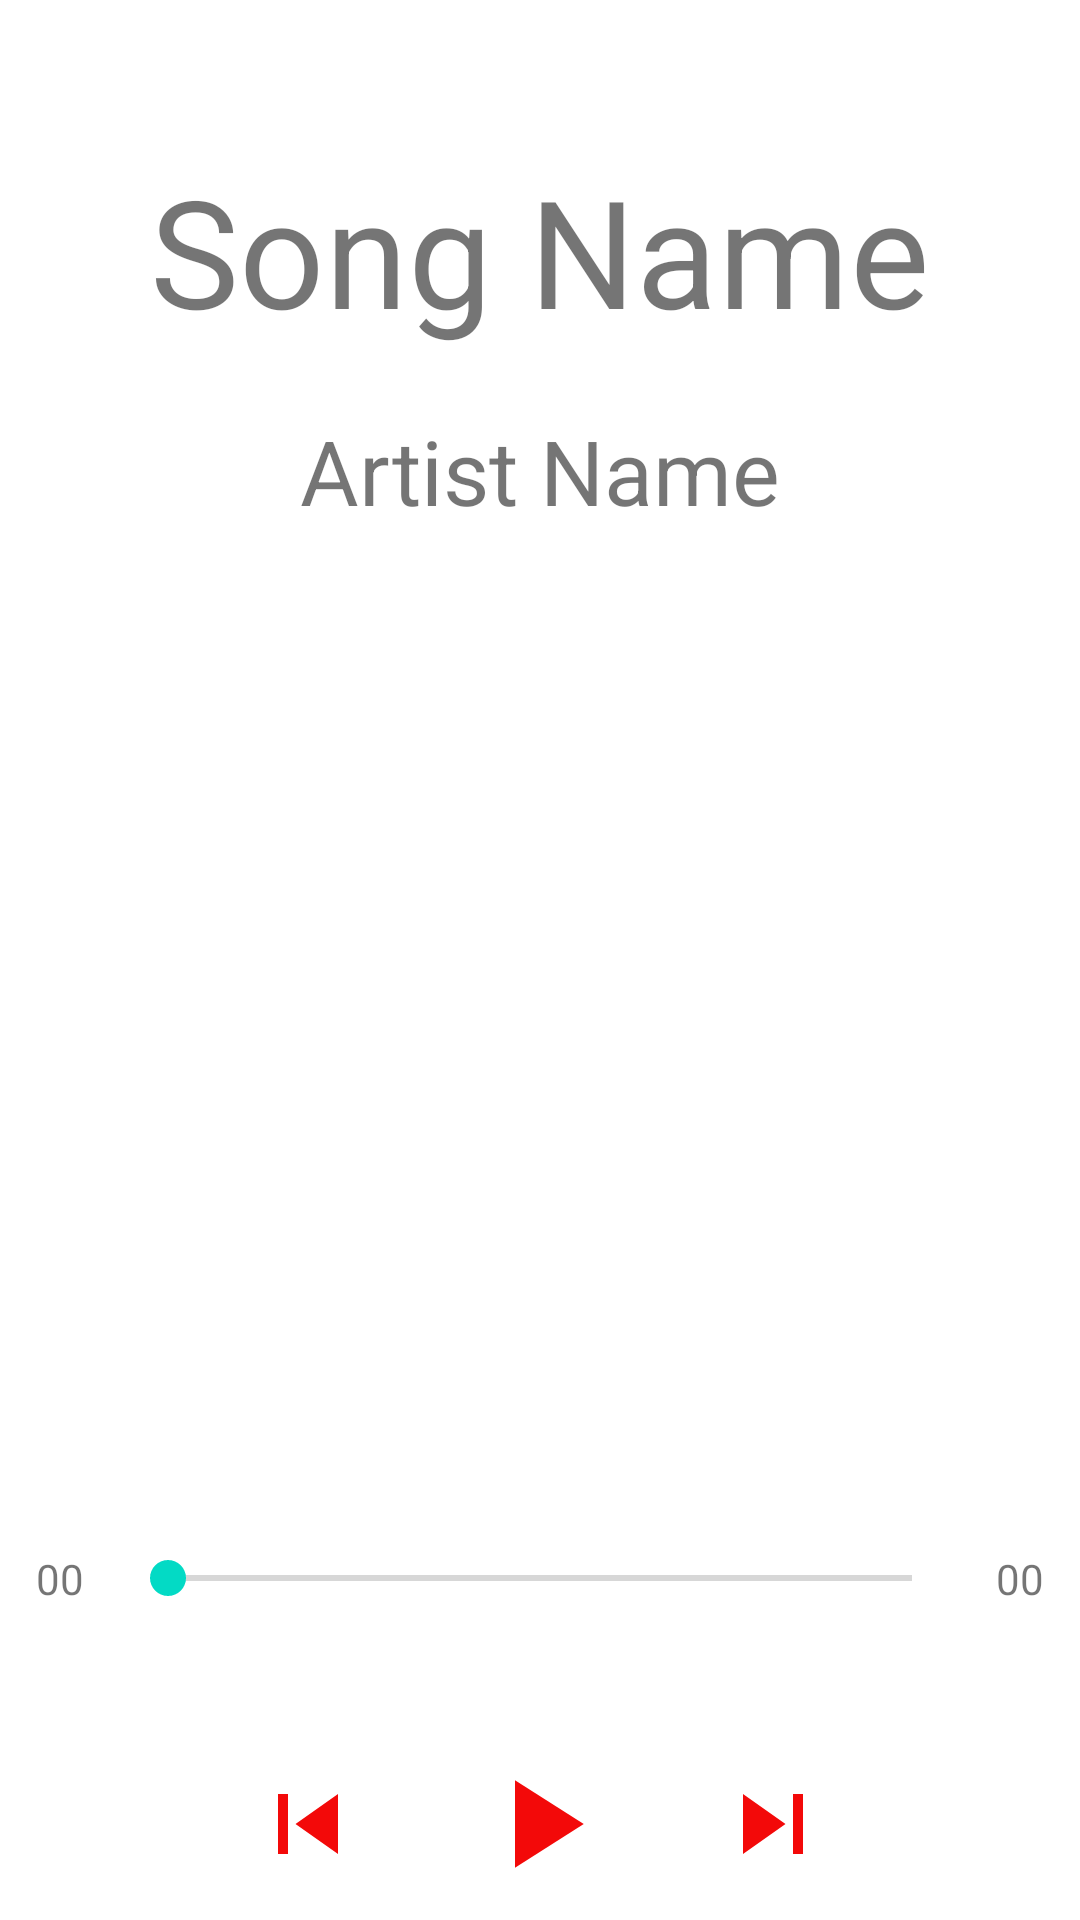

Screen size 1080x1920. Icon name, then its center in pixels as (x=x, y=y):
next button: (x=773, y=1824)
play pause button: (x=549, y=1824)
previous button: (x=308, y=1824)
